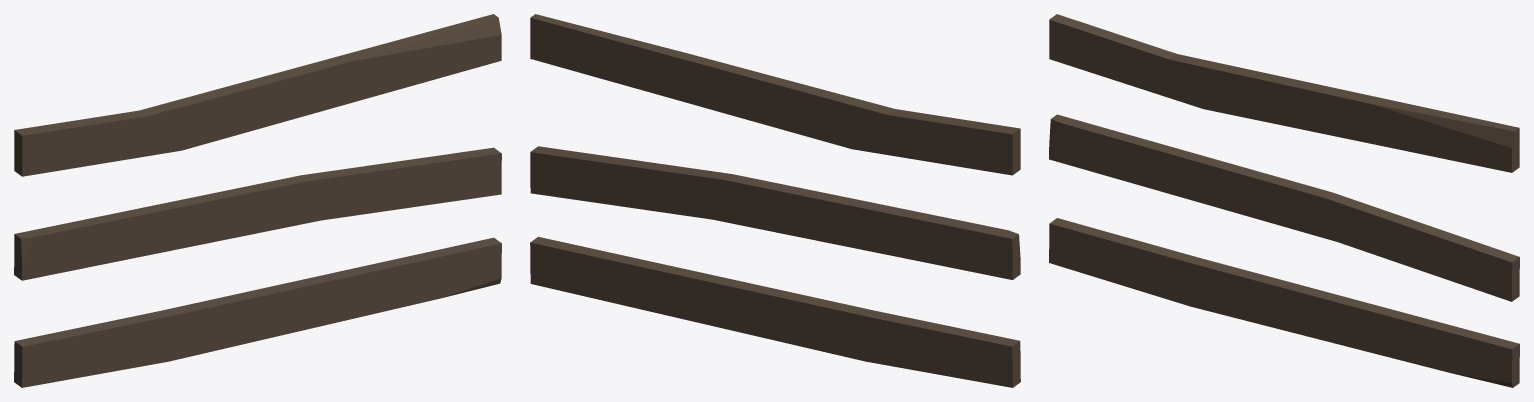
Rendered from SM_Props_Farm_Fence_Square_T2_Rail_02.fbx.
3 renders of one model, left to right at view 1: azimuth 30°, elevation 25°; view 2: azimuth 150°, elevation 25°; view 3: azimuth 330°, elevation 25°, orthographic. The views are drawn at different scales.
Parts seen in each view (by area): view 1: SM_Props_Farm_Fence_Square_T2_Rail_02; view 2: SM_Props_Farm_Fence_Square_T2_Rail_02; view 3: SM_Props_Farm_Fence_Square_T2_Rail_02.
Boxes of the visible parts, bbox=[...] form: SM_Props_Farm_Fence_Square_T2_Rail_02: bbox=[14, 14, 501, 387]; SM_Props_Farm_Fence_Square_T2_Rail_02: bbox=[530, 14, 1020, 387]; SM_Props_Farm_Fence_Square_T2_Rail_02: bbox=[1049, 14, 1519, 387].
Bounding box in the file's own units: 200 × 106 × 5.77.
